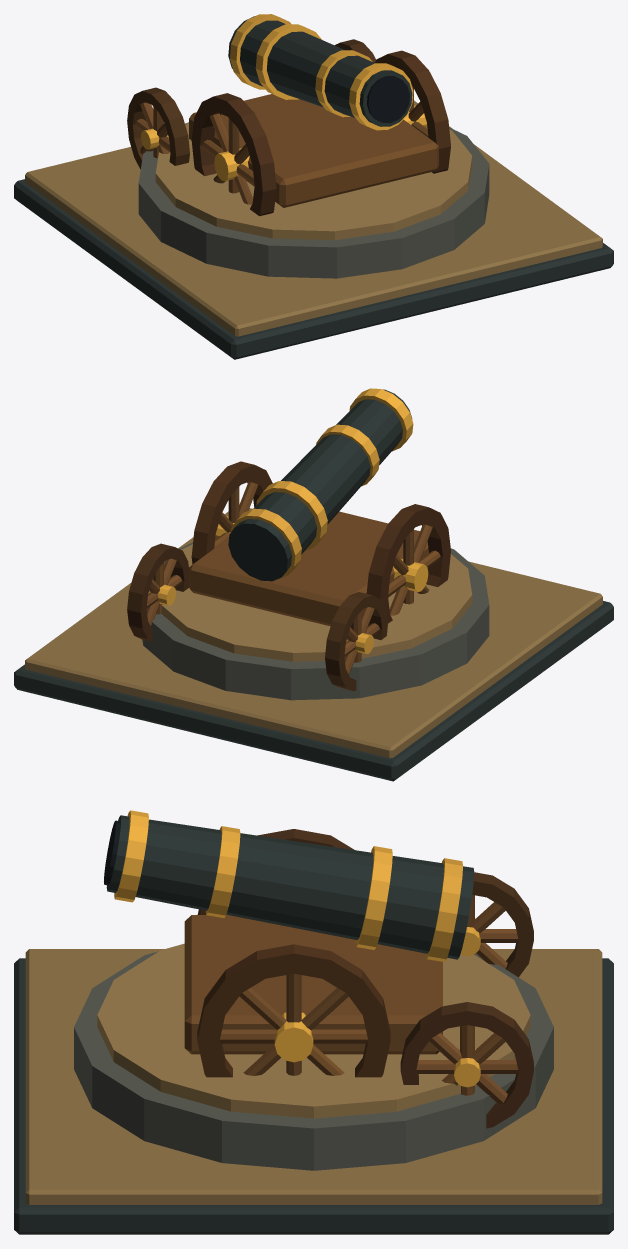
3 views of the same model, one above another, from view 1: azimuth 30°, elevation 25°; view 2: azimuth 150°, elevation 25°; view 3: azimuth 270°, elevation 25° (orthographic). The views are drawn at different scales.
Parts seen in each view (by area): view 1: cannon_level2_structure, cannon_level2_metal; view 2: cannon_level2_structure, cannon_level2_metal; view 3: cannon_level2_structure, cannon_level2_metal.
Part boxes in pixels (left/top/right/bottom): cannon_level2_structure: left=14, top=16, right=613, bottom=359; cannon_level2_metal: left=141, top=14, right=427, bottom=181; cannon_level2_structure: left=14, top=389, right=613, bottom=781; cannon_level2_metal: left=148, top=388, right=428, bottom=653; cannon_level2_structure: left=14, top=815, right=613, bottom=1234; cannon_level2_metal: left=114, top=810, right=480, bottom=1087.
Bounding box in the file's own units: 3.6 × 1.96 × 3.6.
